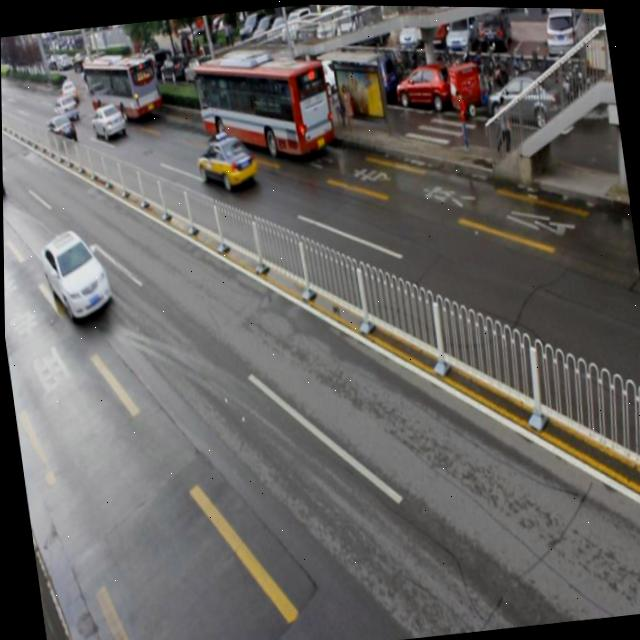car: (38, 225, 113, 321), (192, 130, 256, 192), (89, 100, 128, 140)
van: (192, 44, 336, 167)
